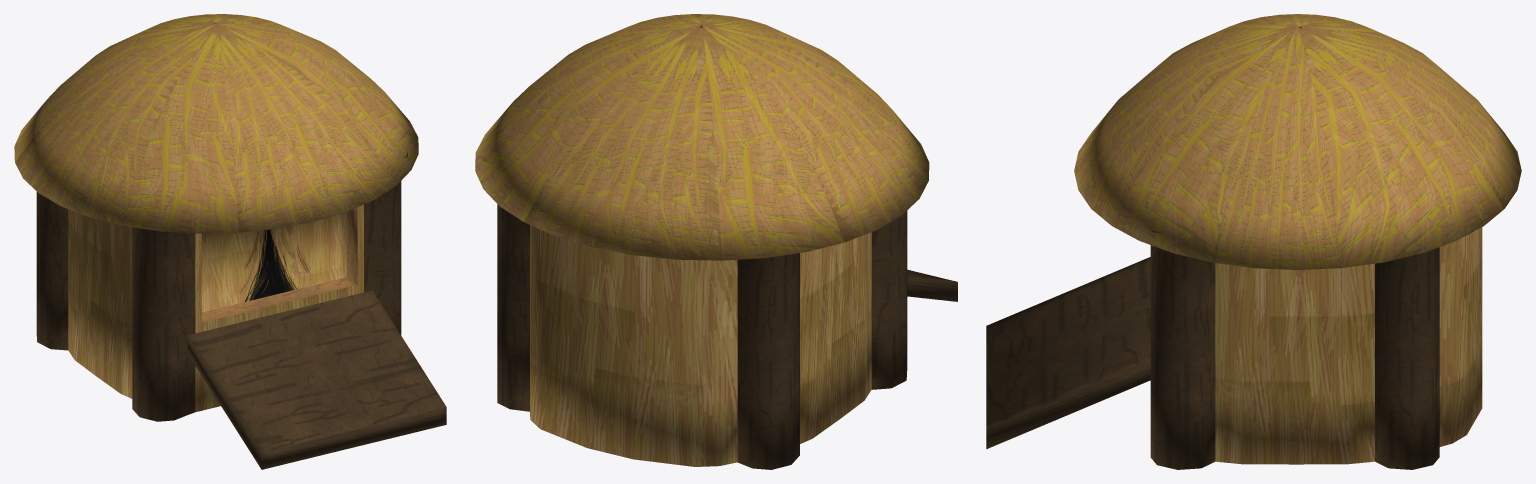
The model's file is Coco_House.fbx.
3 views of the same model, side by side, from view 1: azimuth 30°, elevation 25°; view 2: azimuth 150°, elevation 25°; view 3: azimuth 270°, elevation 25° (orthographic). The views are drawn at different scales.
Visible parts, largest first — view 1: Casa_coco; view 2: Casa_coco; view 3: Casa_coco.
Part boxes in pixels (x1,y1,x2,y2): Casa_coco: (14, 14, 446, 469); Casa_coco: (475, 14, 957, 469); Casa_coco: (986, 14, 1521, 469).
Bounding box in the file's own units: 7625 × 6642 × 8701.
Materials: 2 (2 with a texture image).
